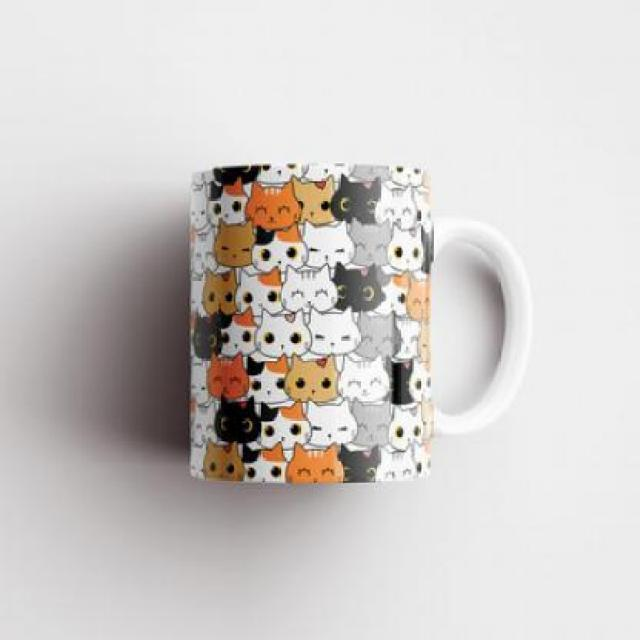taza: (188, 161, 534, 487)
